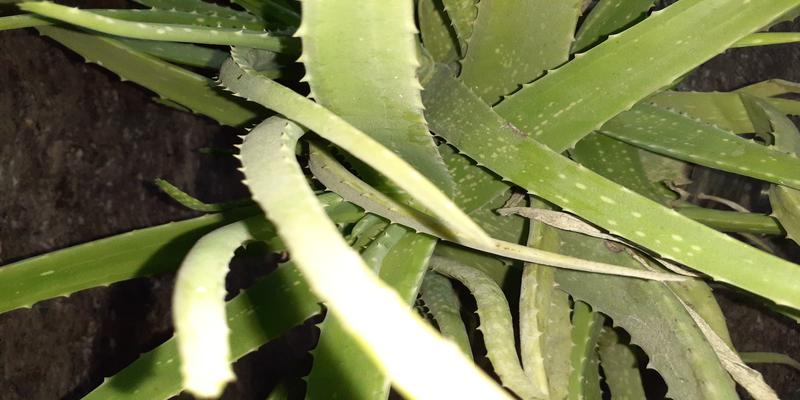Aloevera: (166, 14, 760, 374)
